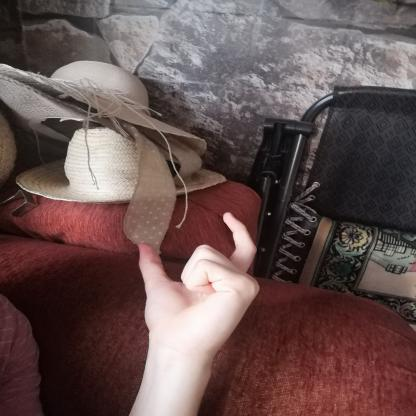NOON: (120, 200, 274, 362)
